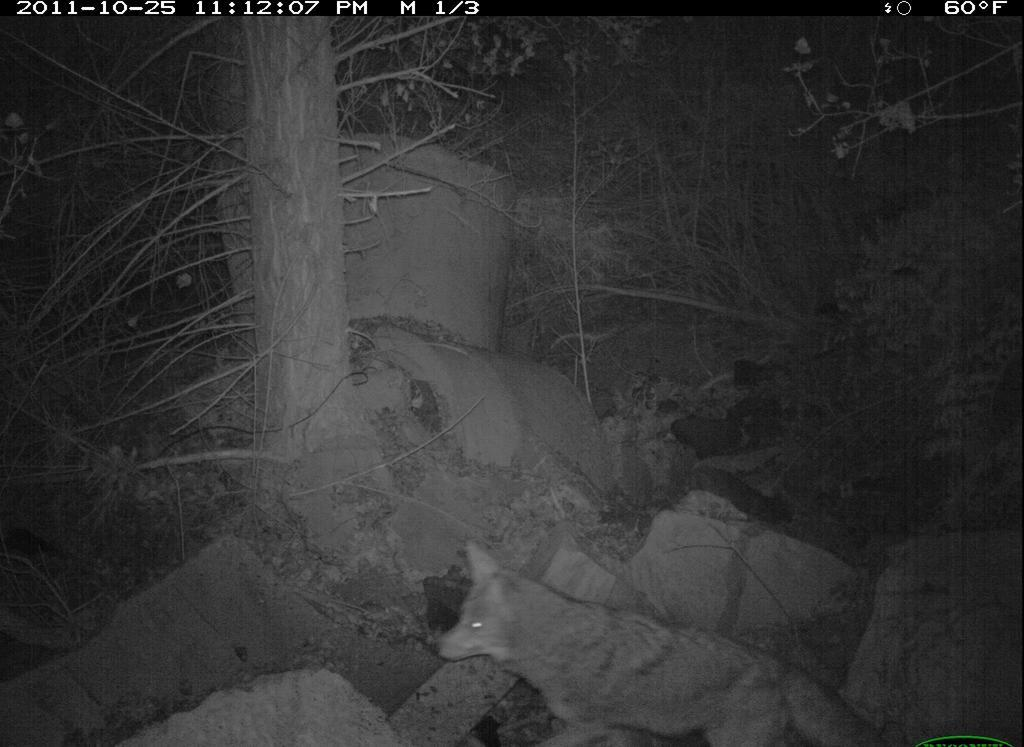coyote: (417, 521, 911, 747)
